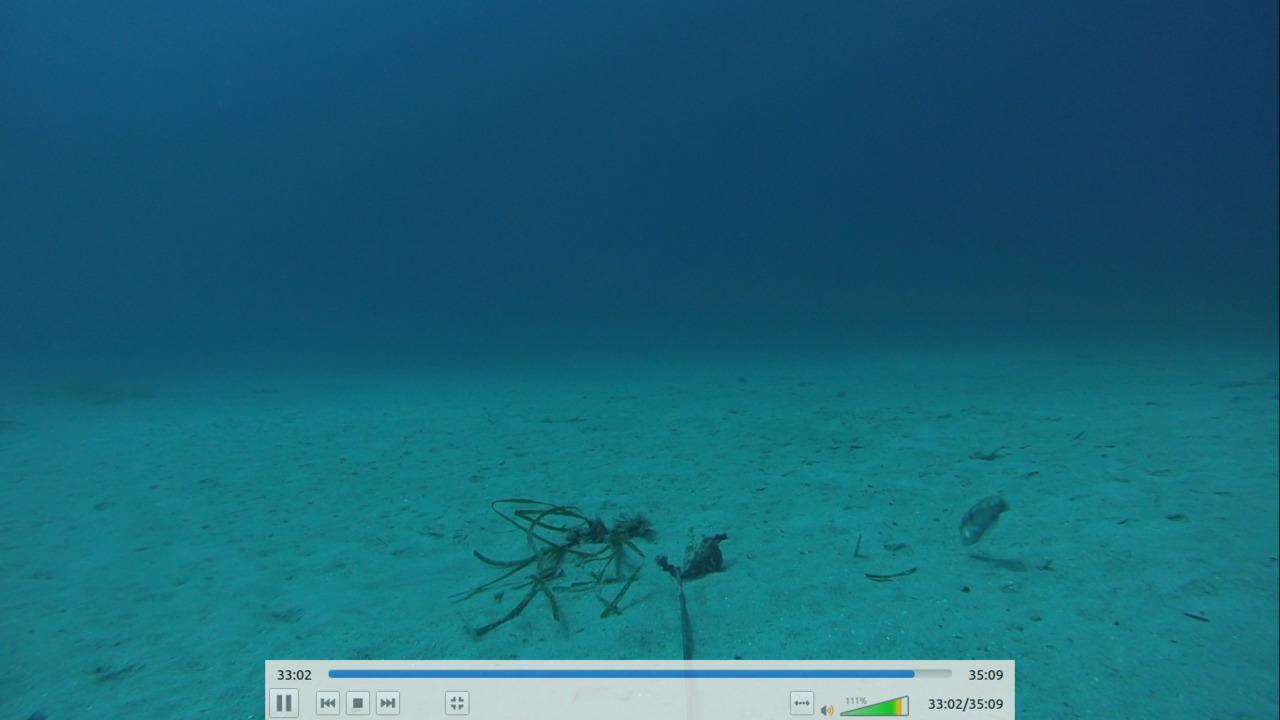raor: (954, 486, 1016, 550)
